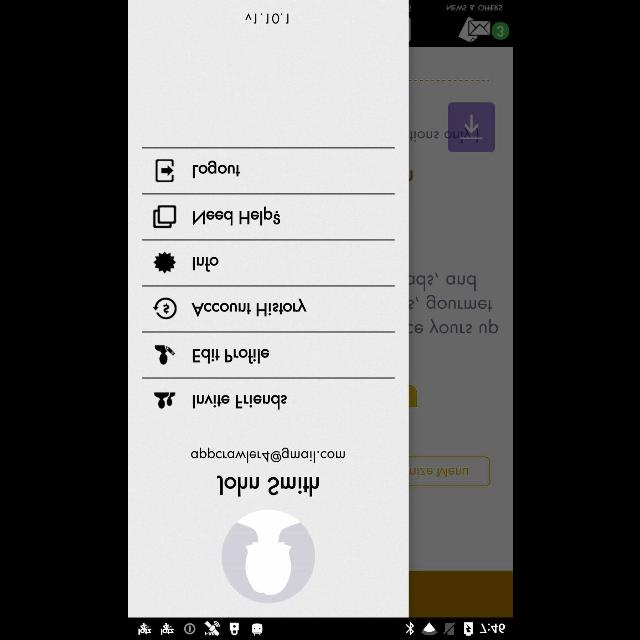icon: (221, 509, 315, 603), (152, 205, 176, 228), (152, 297, 176, 319), (153, 345, 174, 365), (154, 160, 173, 182), (153, 392, 175, 408)
image: (152, 252, 175, 274)
panel: (128, 0, 408, 618)
text: (190, 446, 344, 464), (190, 298, 306, 318), (215, 475, 318, 497), (192, 206, 280, 226), (192, 394, 286, 410), (192, 348, 268, 364), (192, 160, 240, 178), (243, 13, 289, 25), (192, 256, 218, 272)
uppertaskbar: (128, 617, 512, 639)
